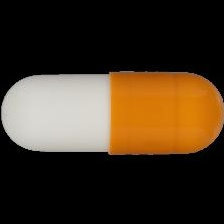68788-9749: (0, 0, 224, 224)
